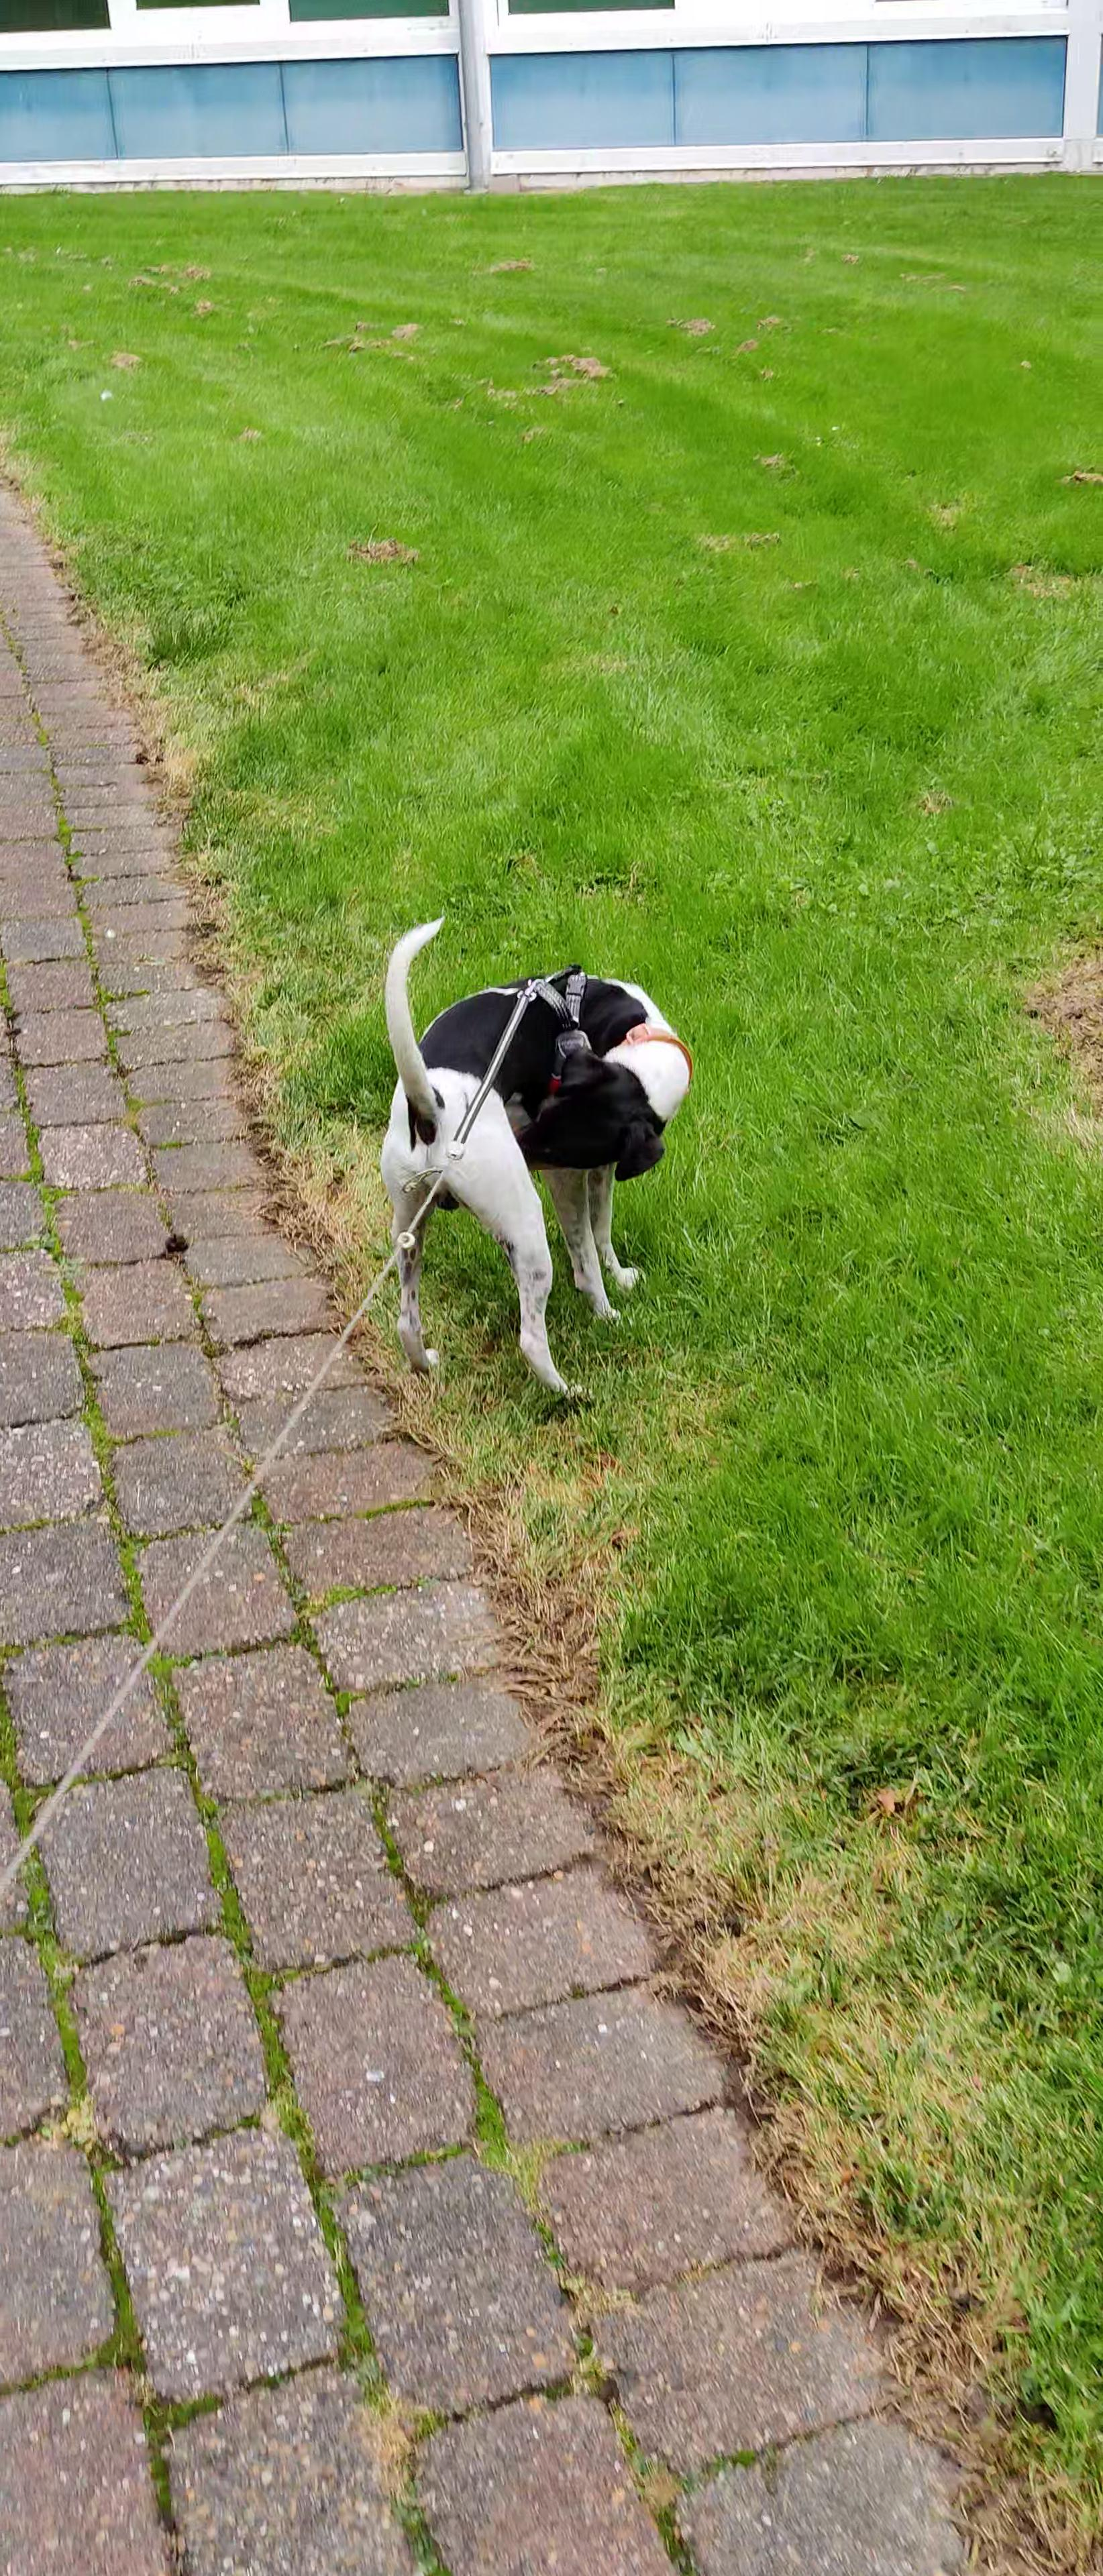Dog: (358, 902, 705, 1395)
